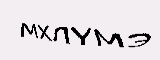Л: (52, 22, 71, 47)
М: (94, 26, 123, 50), (17, 20, 39, 39)
Х: (35, 22, 52, 42)
Э: (127, 28, 151, 49)
Ү: (70, 24, 91, 47)
